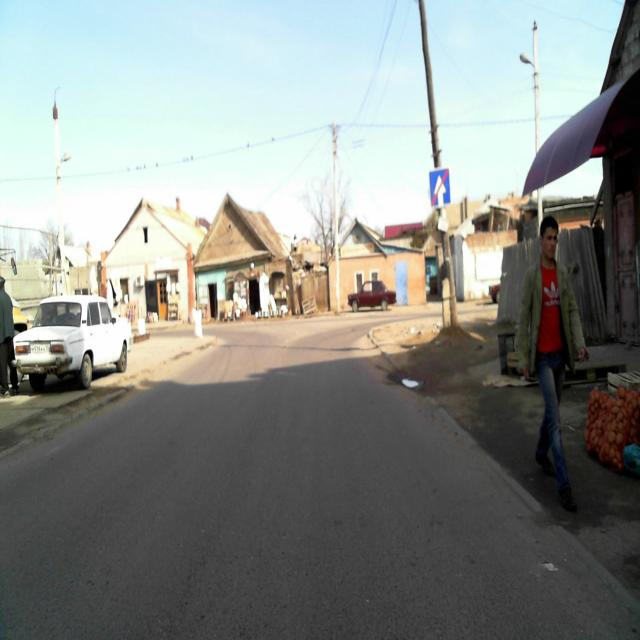road sign: (428, 168, 449, 206)
